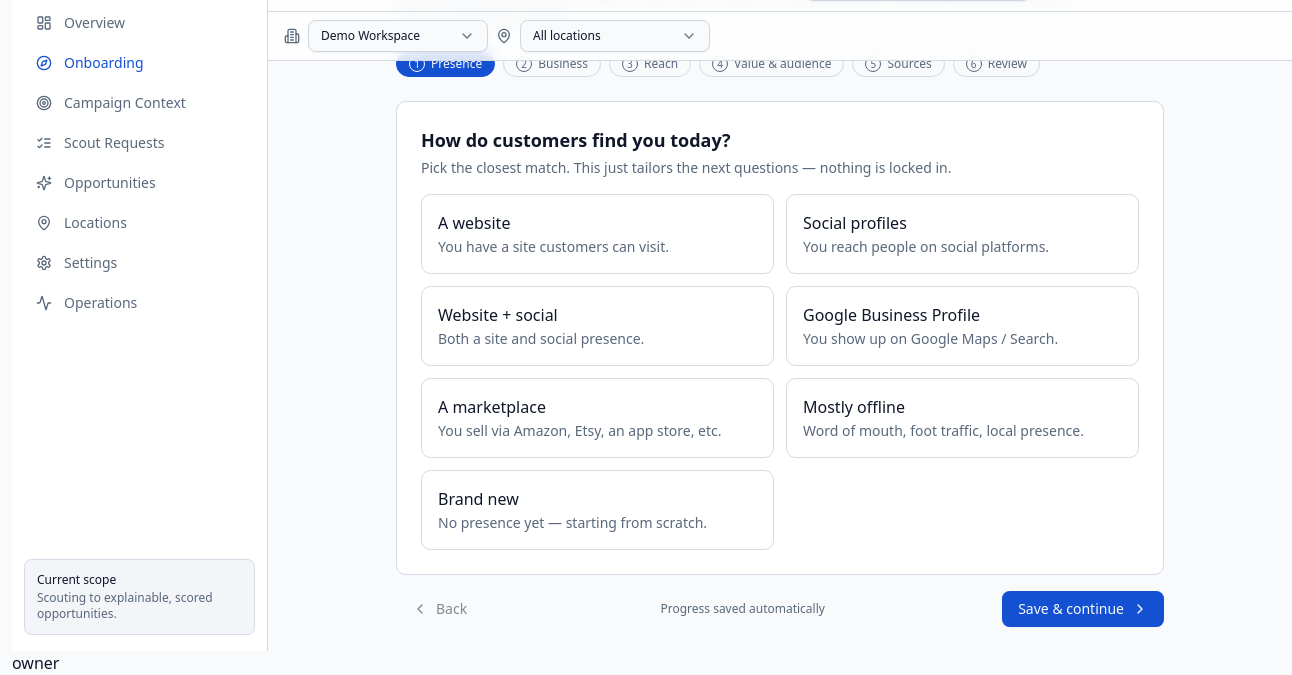
Scenario: formerly ungated mutation controls × six roles (§53) › C01 Finish onboarding (Onboarding.tsx:421) › owner
(page scrolled)
Expected: the text with test id "m4-role-probe" reads "owner", [12,652,60,674]
Step 1. Click the button "Save & continue" → [1083, 609], box [1002,591,1164,627]
(page scrolled)
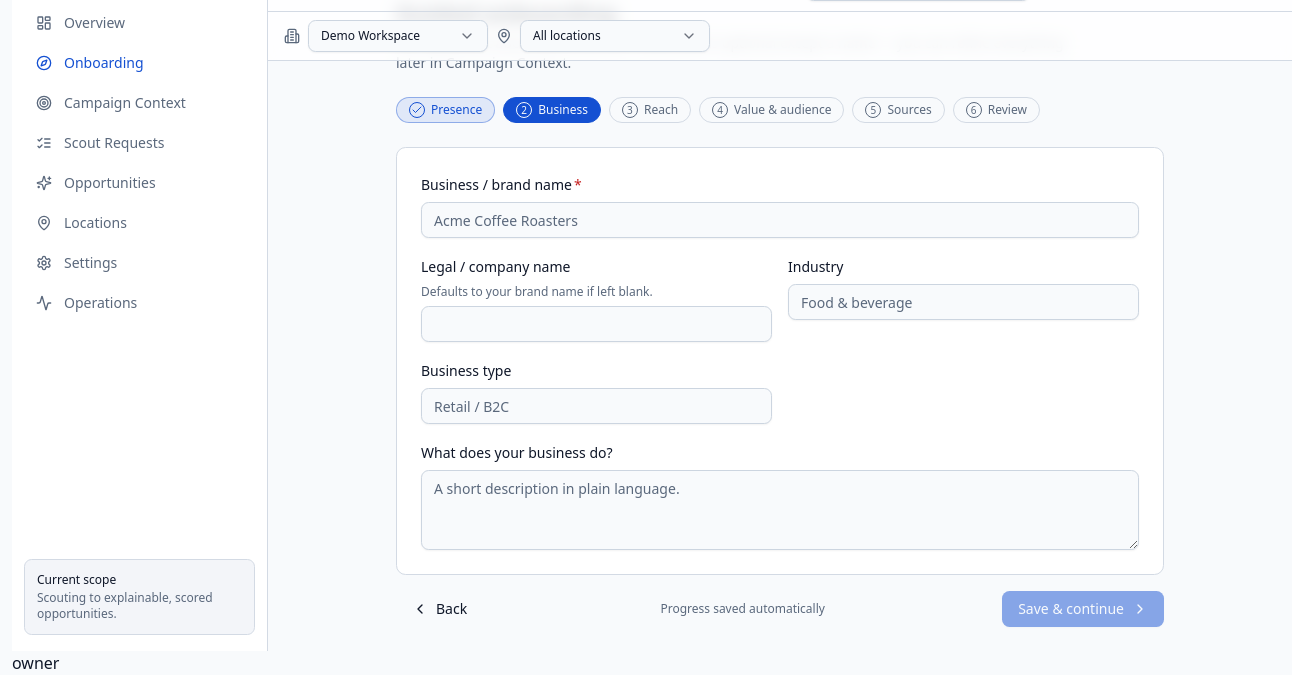
Step 2. Type "Matrix Brand" into the field labelled "Business / brand name*" → [780, 220], box [421,202,1139,238]
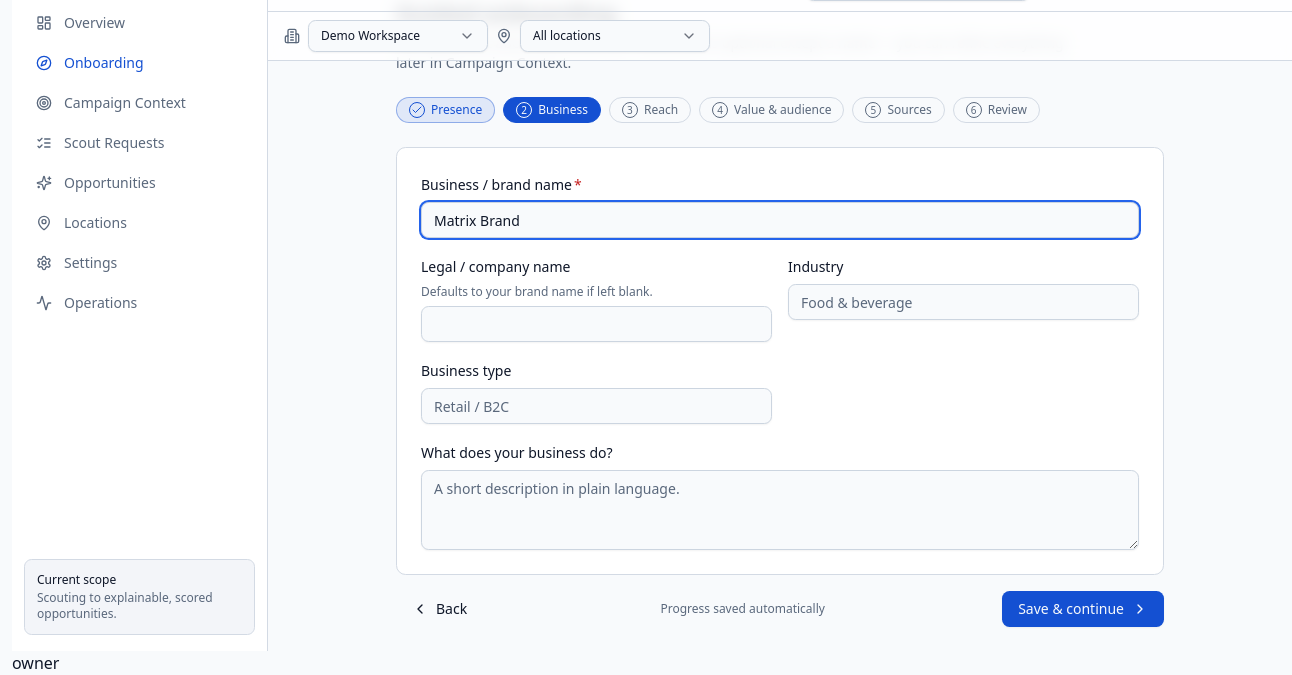
Step 3. Click the button "Save & continue" → [1083, 609], box [1002,591,1164,627]
(page scrolled)
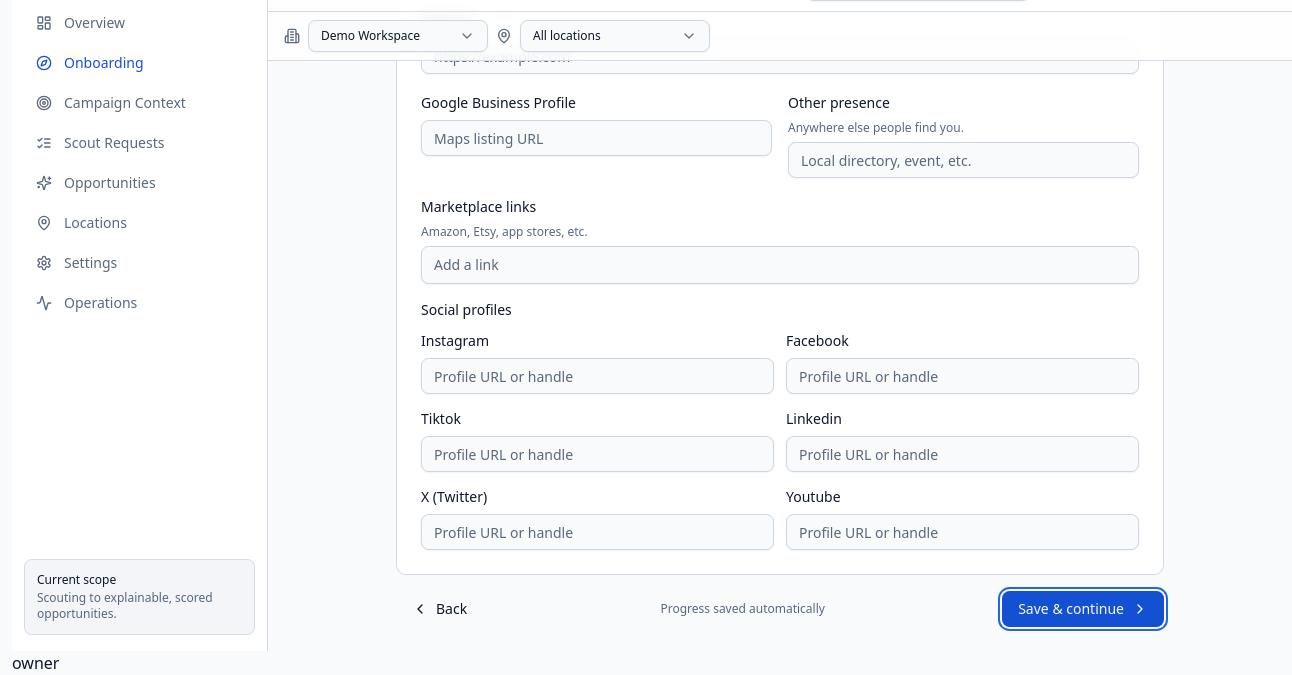
Step 4. Click the button "Save & continue" → [1083, 609], box [1002,591,1164,627]
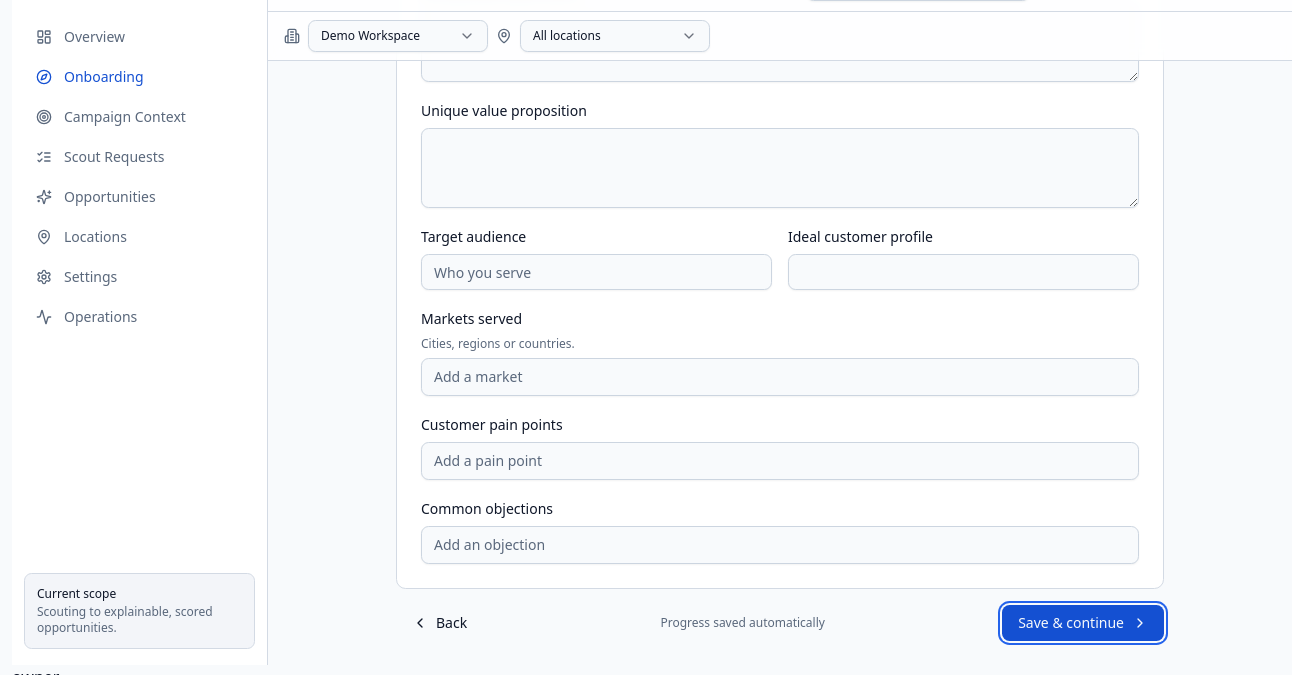
Step 5. Click the button "Save & continue" → [1083, 623], box [1002,605,1164,641]
(page scrolled)
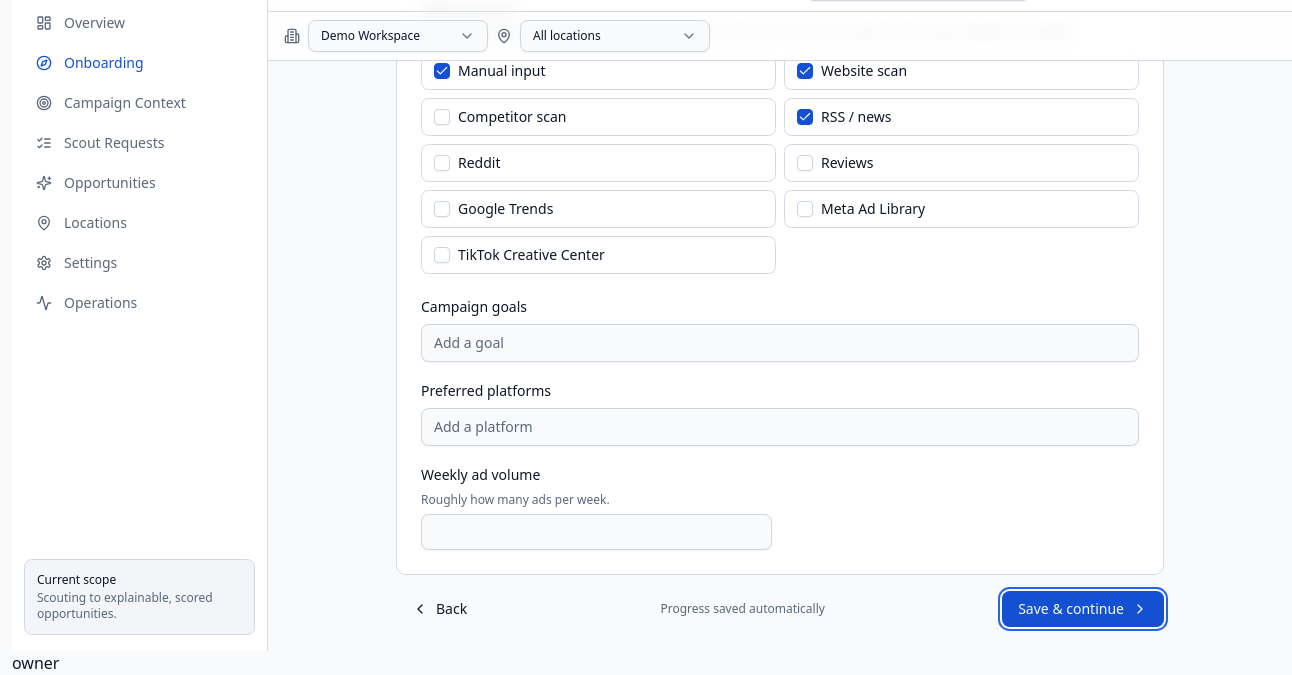
Step 6. Click the button "Save & continue" → [1083, 609], box [1002,591,1164,627]
(page scrolled)
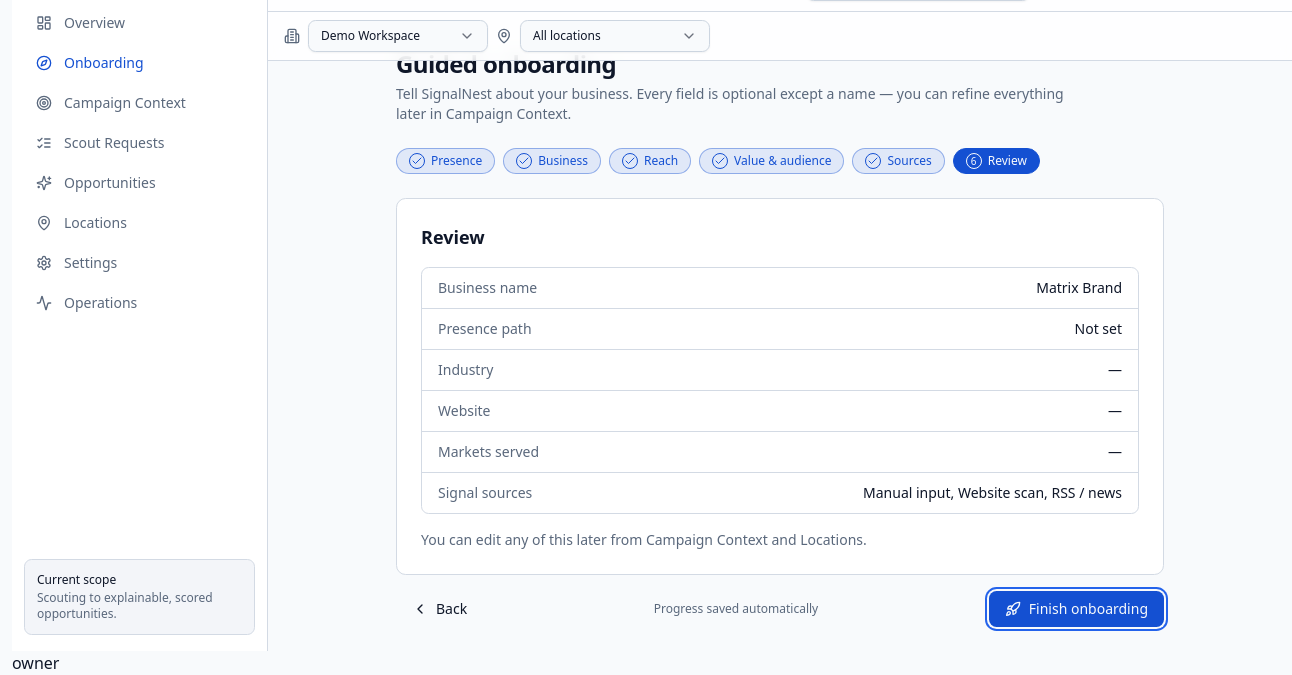
Expected: the number of buttons "Finish onboarding" is 1, [989,591,1164,627]
Result: the button "Finish onboarding" is enabled at [989,591,1164,627]
Result: the button "Save & continue" is gone
